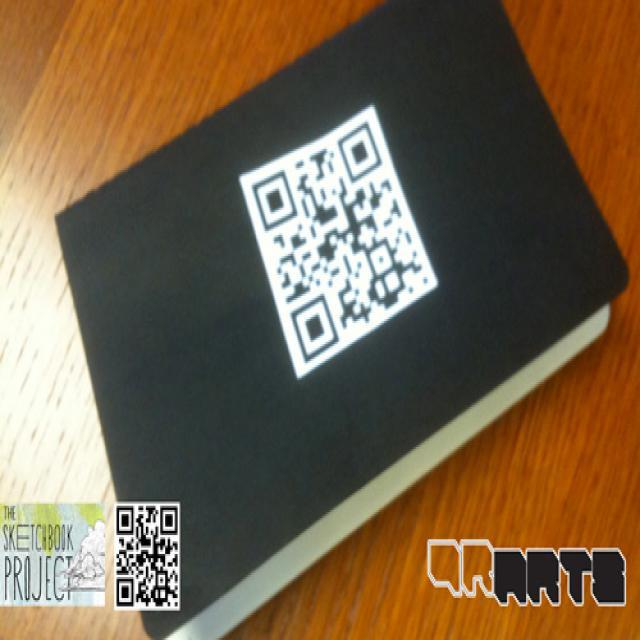qrcode: (252, 121, 428, 364), (118, 507, 178, 605)
